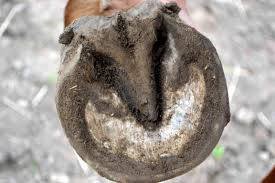horsesole: (54, 13, 229, 183)
